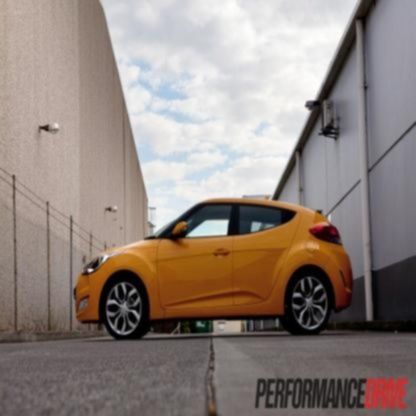Vehicle: (70, 192, 364, 346)
